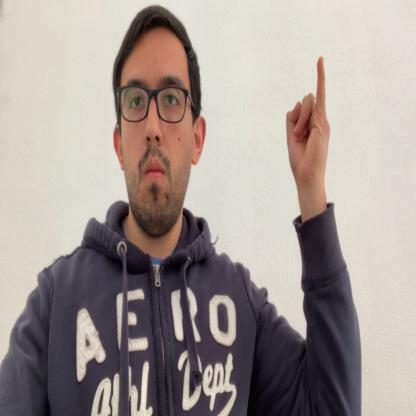I: (285, 57, 331, 193)
